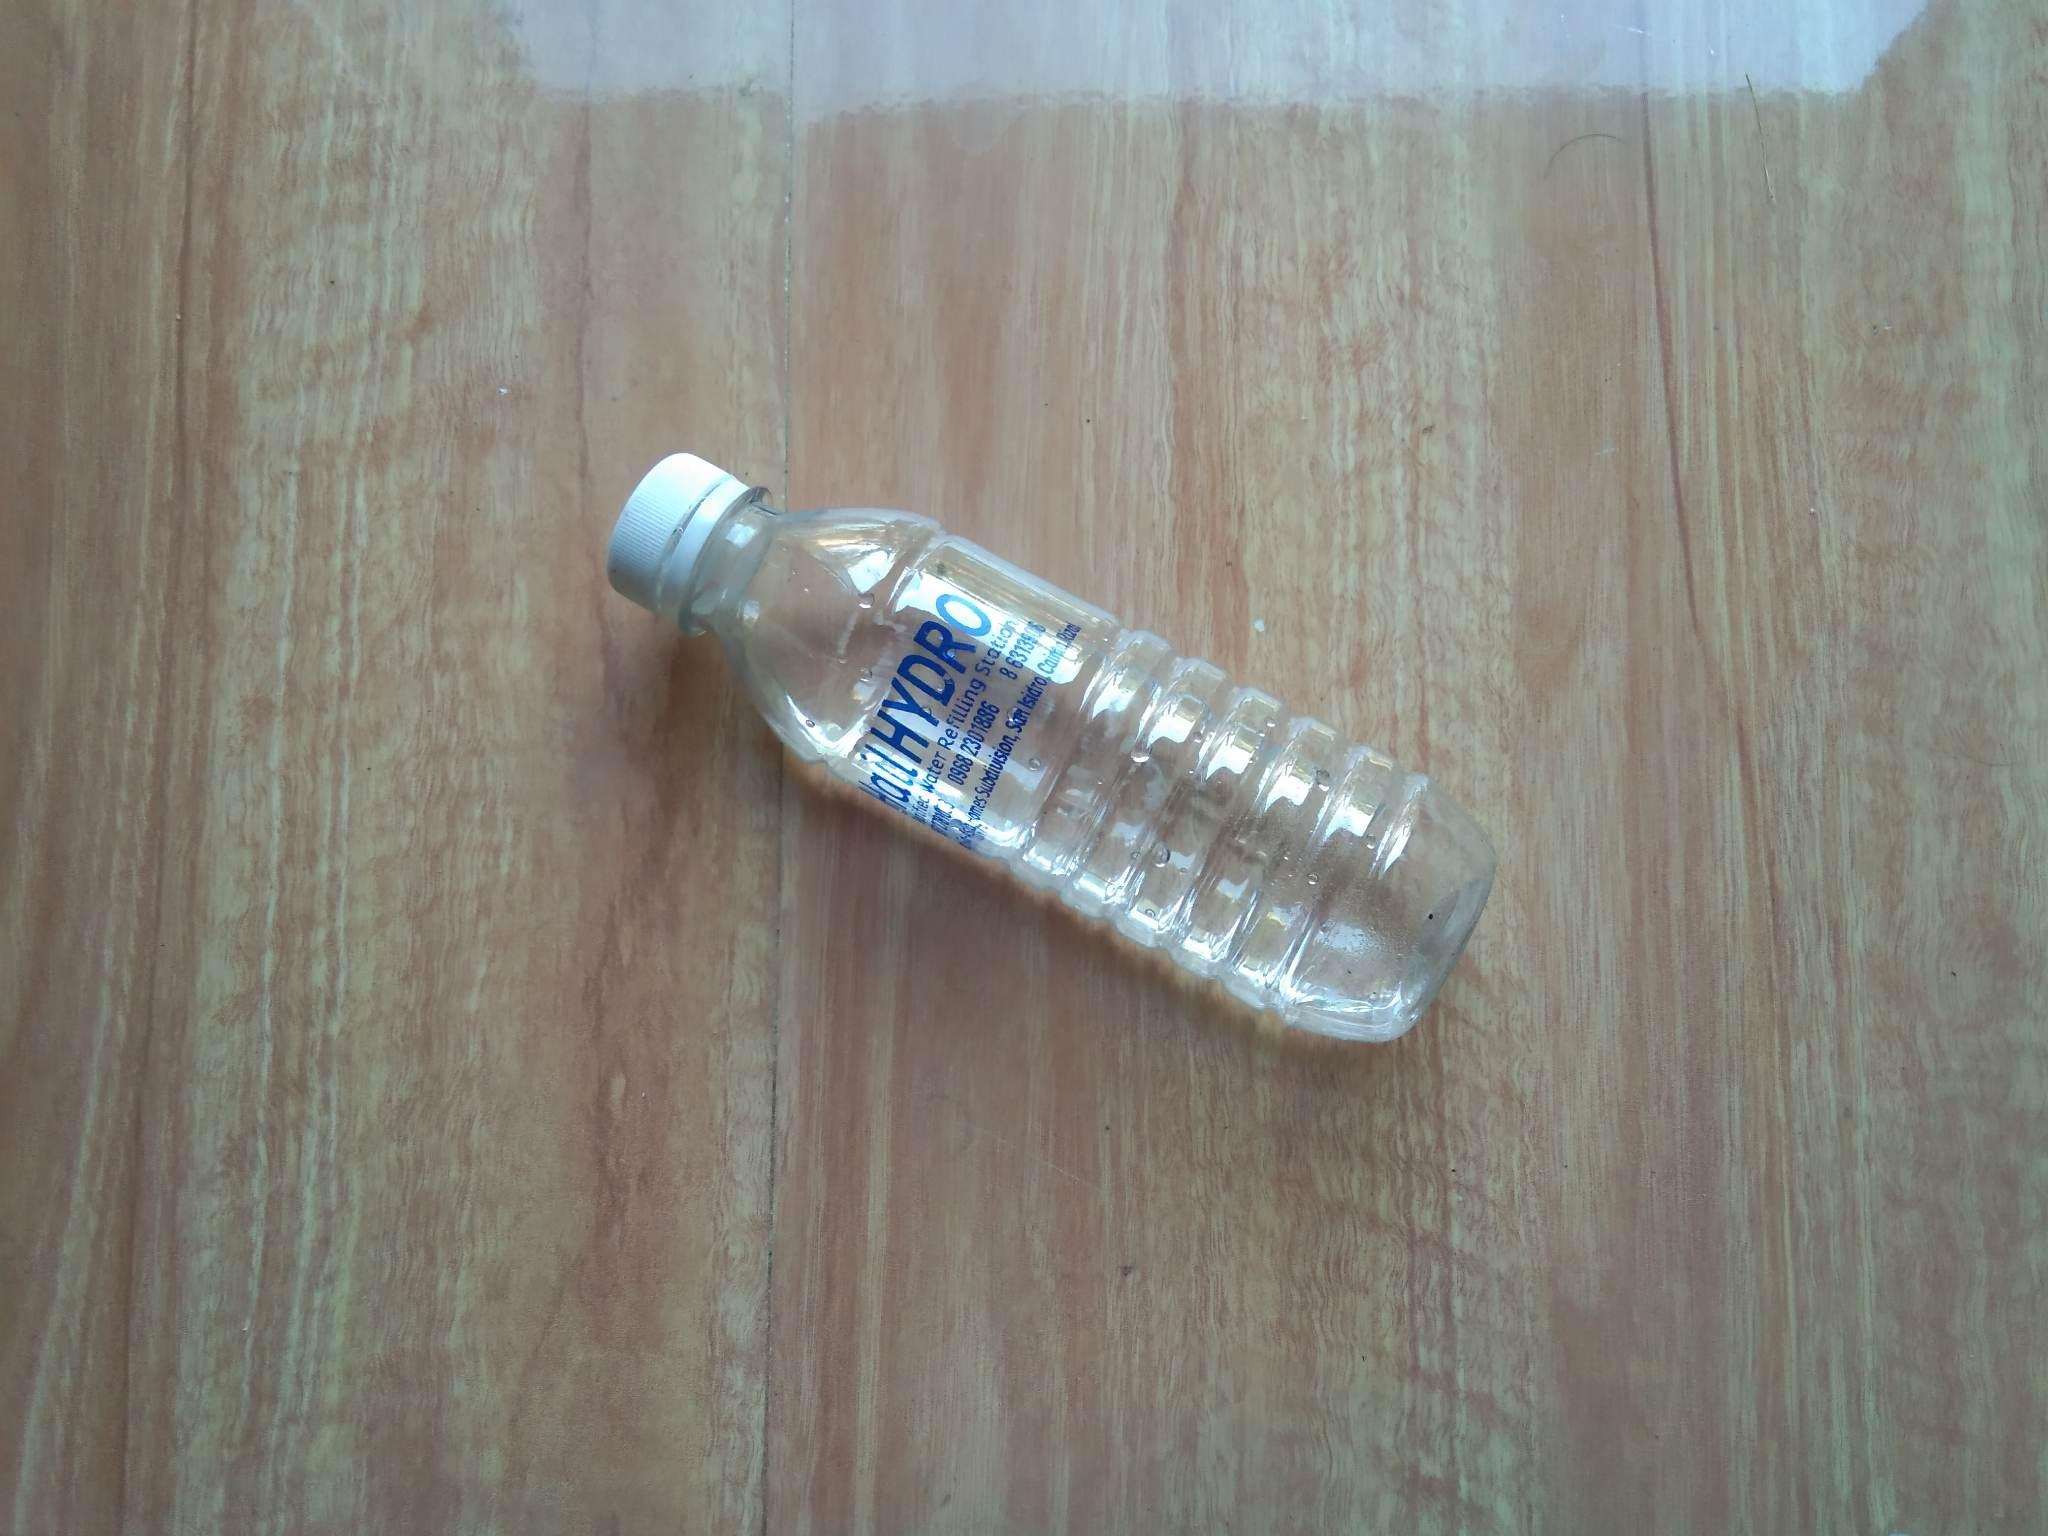plastic: (532, 386, 1576, 1128)
